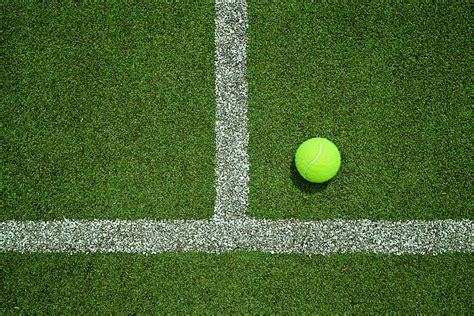tennis_ball: (295, 137, 341, 182)
